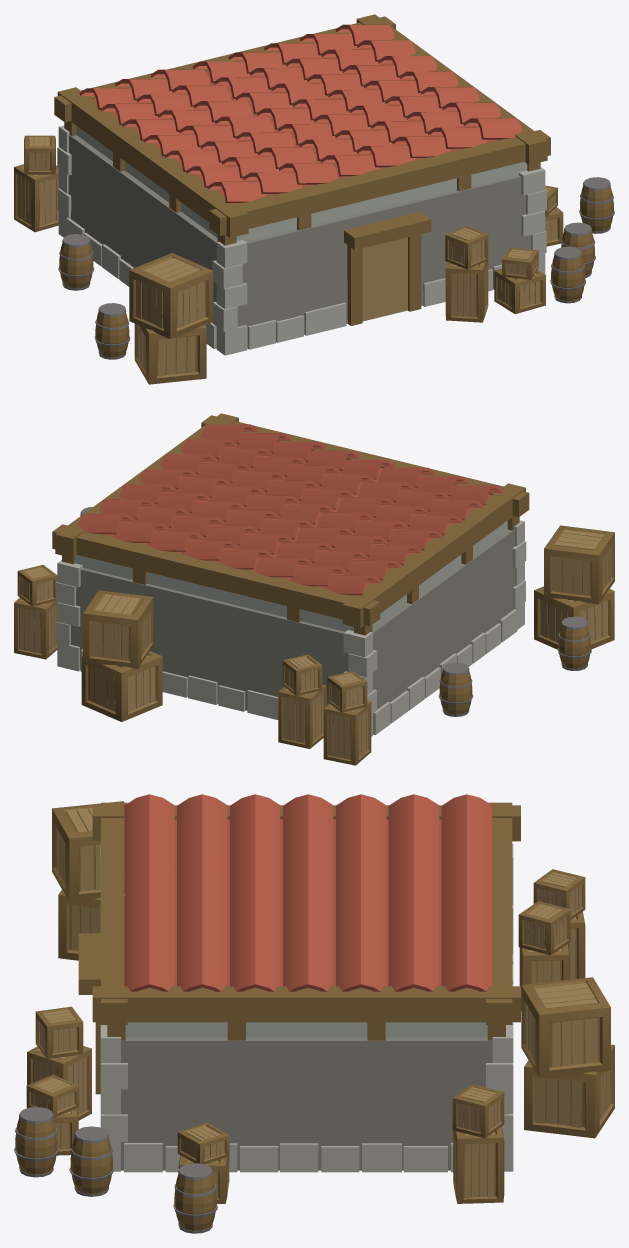
Rendered from Storage_SecondAge_Level1.glb.
3 views of the same model, one above another, from view 1: azimuth 30°, elevation 25°; view 2: azimuth 150°, elevation 25°; view 3: azimuth 270°, elevation 25° (orthographic). The views are drawn at different scales.
Visible parts, largest first — view 1: Storage_SecondAge_Level1; view 2: Storage_SecondAge_Level1; view 3: Storage_SecondAge_Level1.
Boxes of the visible parts, <box> form: Storage_SecondAge_Level1: <box>14,14,614,384</box>; Storage_SecondAge_Level1: <box>14,413,614,765</box>; Storage_SecondAge_Level1: <box>14,794,614,1233</box>.
Size of the model in its own units: 1.72 by 0.5015 by 1.38.
1 material, 1 textured.
